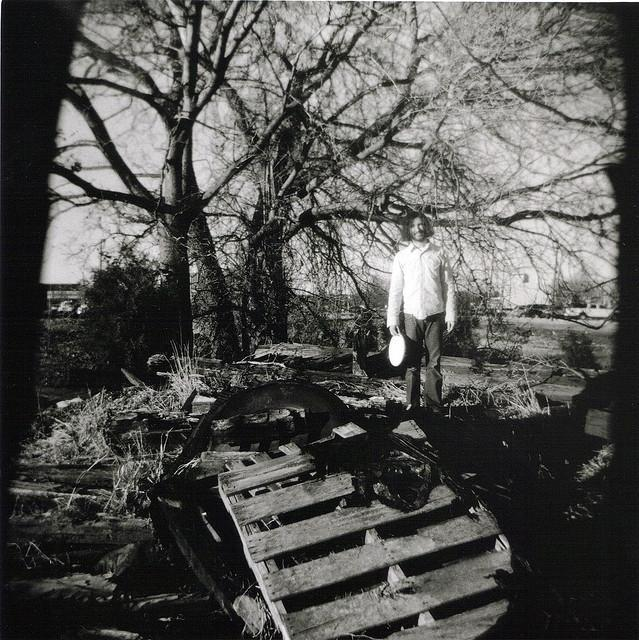car: (562, 302, 620, 320), (515, 304, 543, 318), (58, 301, 81, 312), (514, 306, 530, 310)
